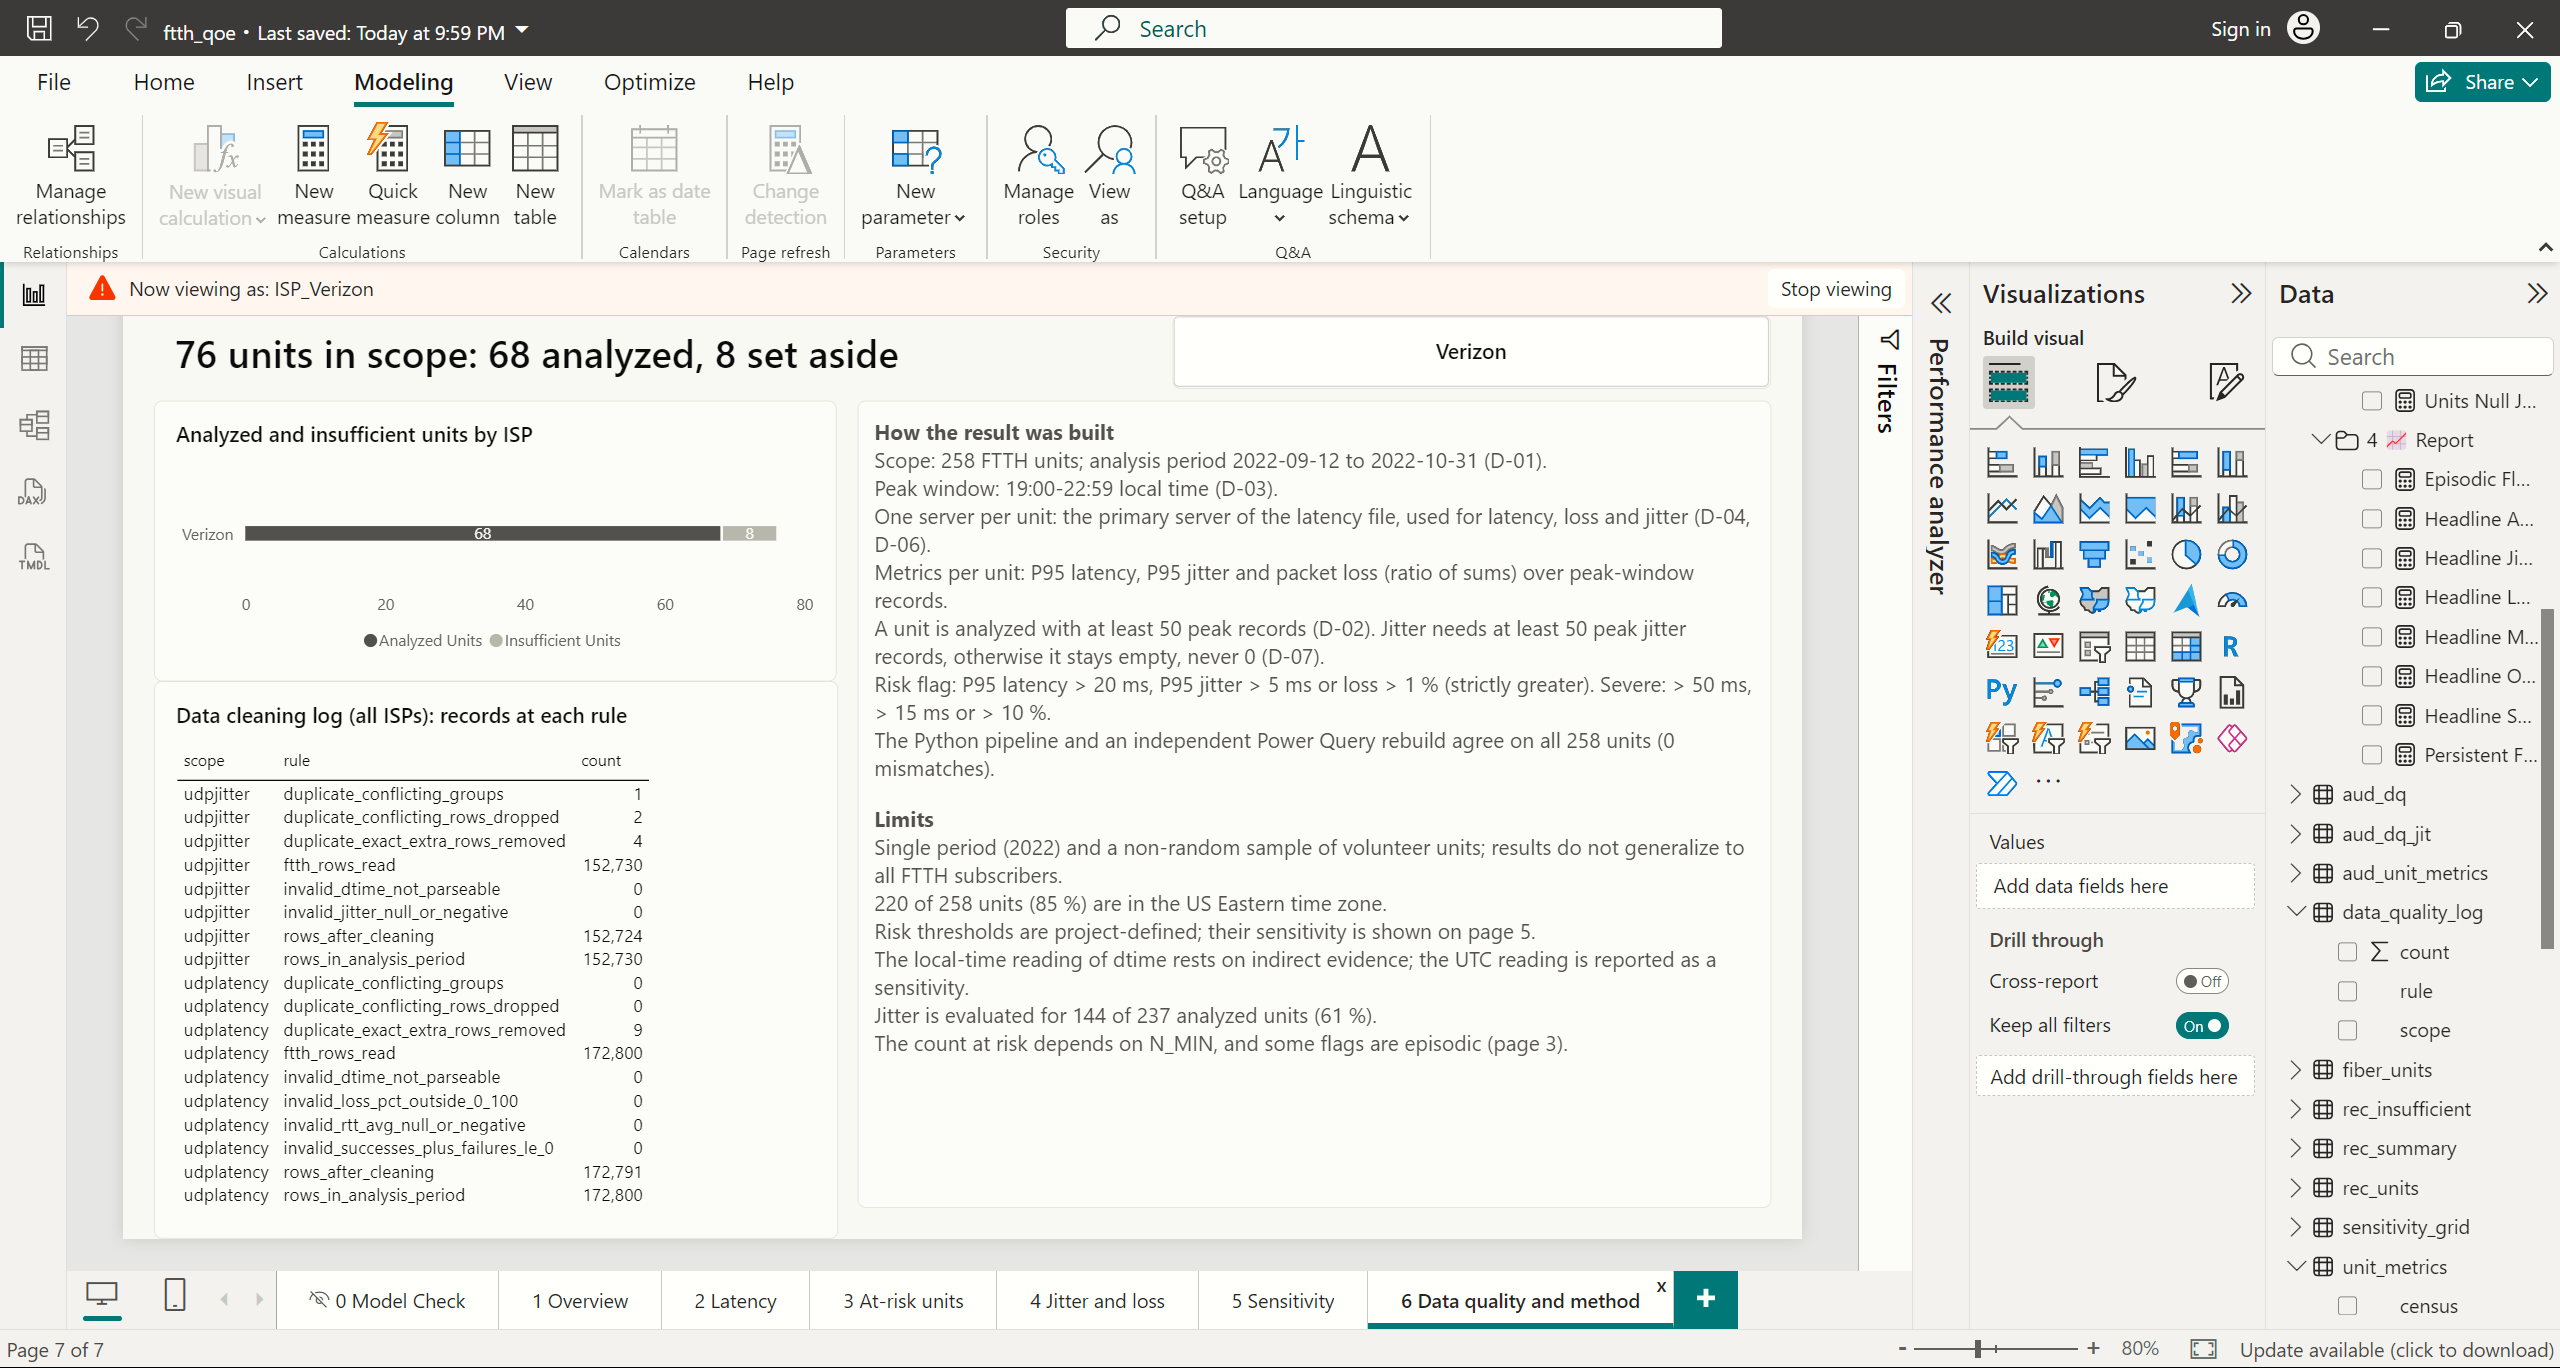

What the dashboard file says about the page in this screenshot:
{"tool":"powerbi","page":{"name":"6 Data quality and method","canvas":[1280,720],"ordinal":6},"visuals":[{"type":"cardVisual","fields":{"Data":["_Measures.Headline Method"]},"box":[24,16,760,56],"z":0},{"type":"advancedSlicerVisual","fields":{"Values":["unit_metrics.isp"]},"box":[800,16,456,56],"z":1},{"type":"barChart","title":"Analyzed and insufficient units by ISP","fields":{"Category":["unit_metrics.isp"],"Y":["_Measures.Analyzed Units","_Measures.Insufficient Units"]},"box":[23.8,81.2,520,213.8],"z":2},{"type":"tableEx","title":"Data cleaning log (all ISPs): records at each rule","fields":{"Values":["data_quality_log.scope","data_quality_log.rule","data_quality_log.count"]},"box":[23.8,295,521.2,425],"z":3},{"type":"textbox","box":[560,81.2,696.2,615],"z":4}]}

Visuals, with their boxes on the page's 1280x720 design canvas (x1, y1, x2, y2). These are canvas units, not pixel positions in the 2560x1368 screenshot, which may show the page scaled, cropped or inside an application window:
cardVisual - _Measures.Headline Method: [x1=24, y1=16, x2=784, y2=72]
advancedSlicerVisual - unit_metrics.isp: [x1=800, y1=16, x2=1256, y2=72]
"Analyzed and insufficient units by ISP" barChart: [x1=24, y1=81, x2=544, y2=295]
"Data cleaning log (all ISPs): records at each rule" tableEx: [x1=24, y1=295, x2=545, y2=720]
textbox: [x1=560, y1=81, x2=1256, y2=696]
